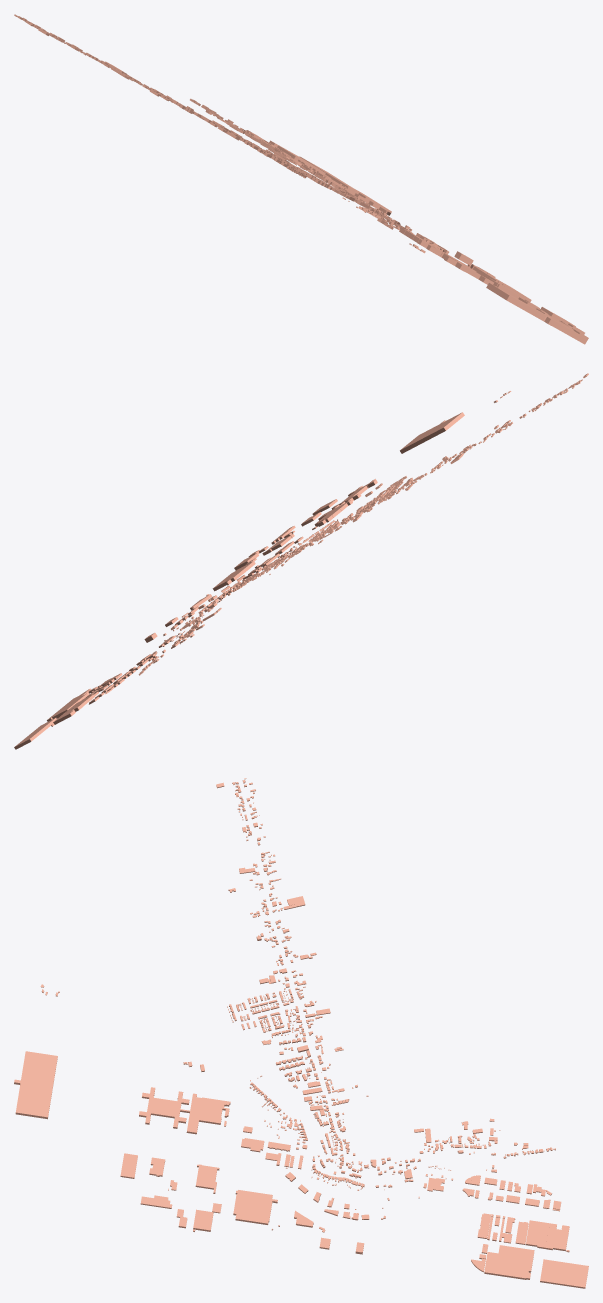
The picture shows the model from 3 angles, top to bottom: view 1: azimuth 30°, elevation 25°; view 2: azimuth 150°, elevation 25°; view 3: azimuth 270°, elevation 25°; orthographic projection. The views are drawn at different scales.
Size of the model in its own units: 1798 by 1466 by 2347.
